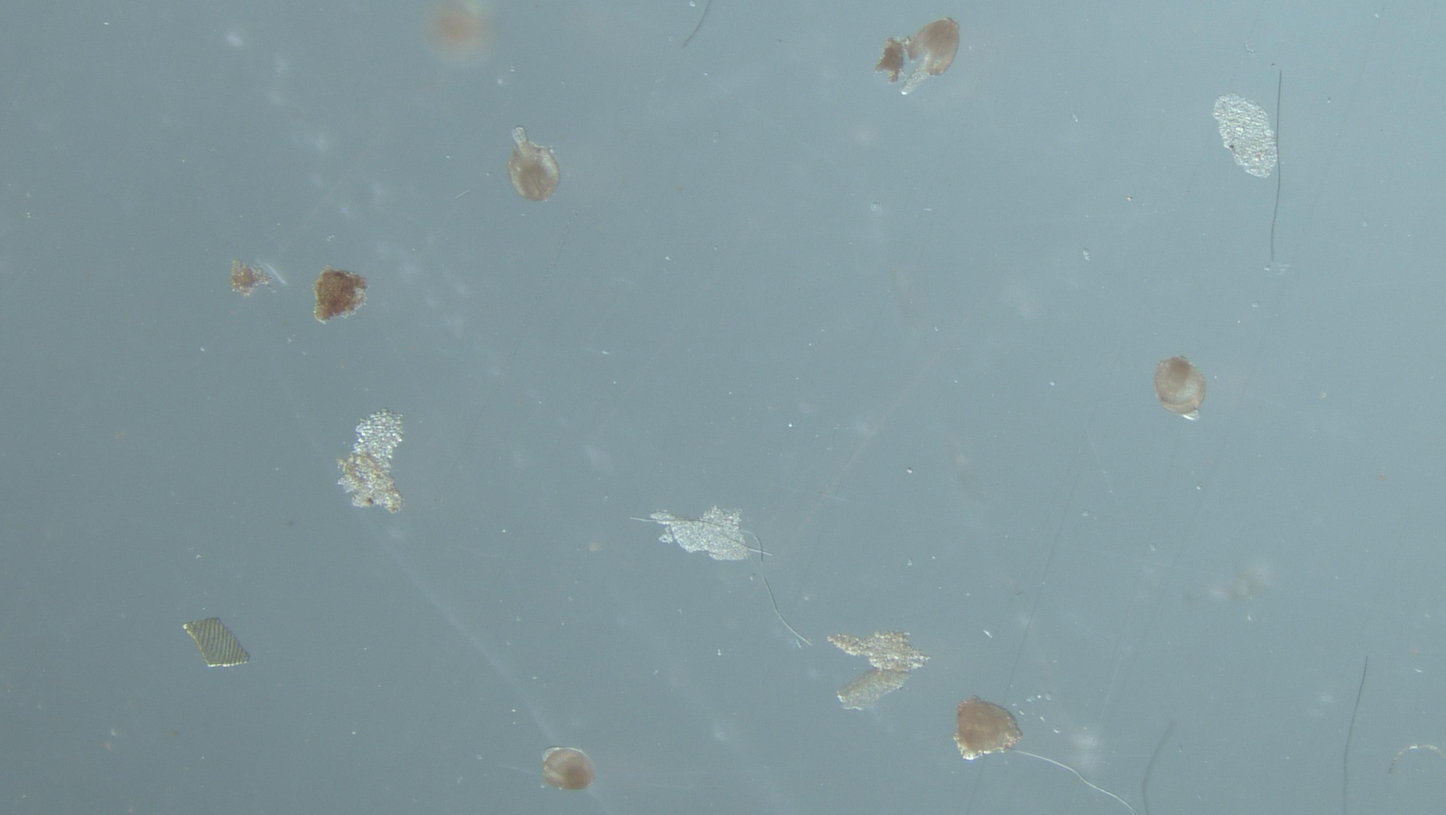live: (508, 127, 560, 201), (1155, 356, 1206, 419), (908, 18, 959, 76), (542, 747, 595, 791)
